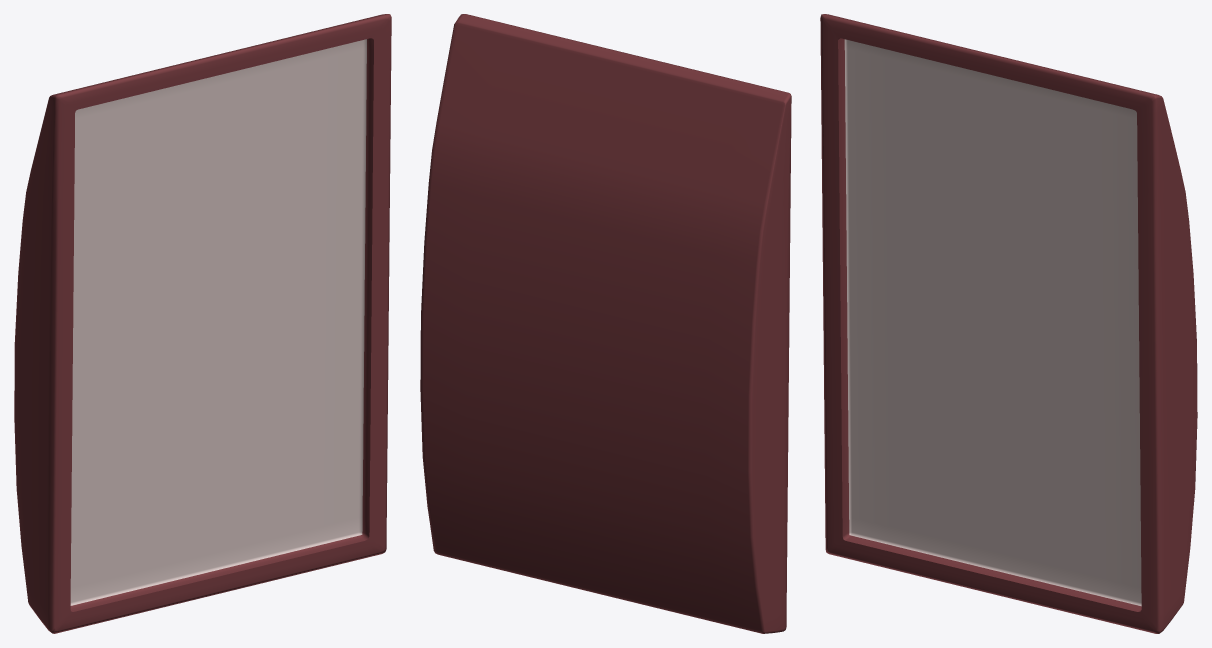
3 views of the same model, side by side, from view 1: azimuth 30°, elevation 25°; view 2: azimuth 150°, elevation 25°; view 3: azimuth 330°, elevation 25° (orthographic).
Visible parts, largest first — view 1: Subway_ad01; view 2: Subway_ad01; view 3: Subway_ad01.
Part boxes in pixels (x1=…): Subway_ad01: x1=14, y1=14, x2=391, y2=633; Subway_ad01: x1=420, y1=14, x2=791, y2=633; Subway_ad01: x1=820, y1=14, x2=1197, y2=633.
Size of the model in its own units: 136 by 209 by 30.22.
